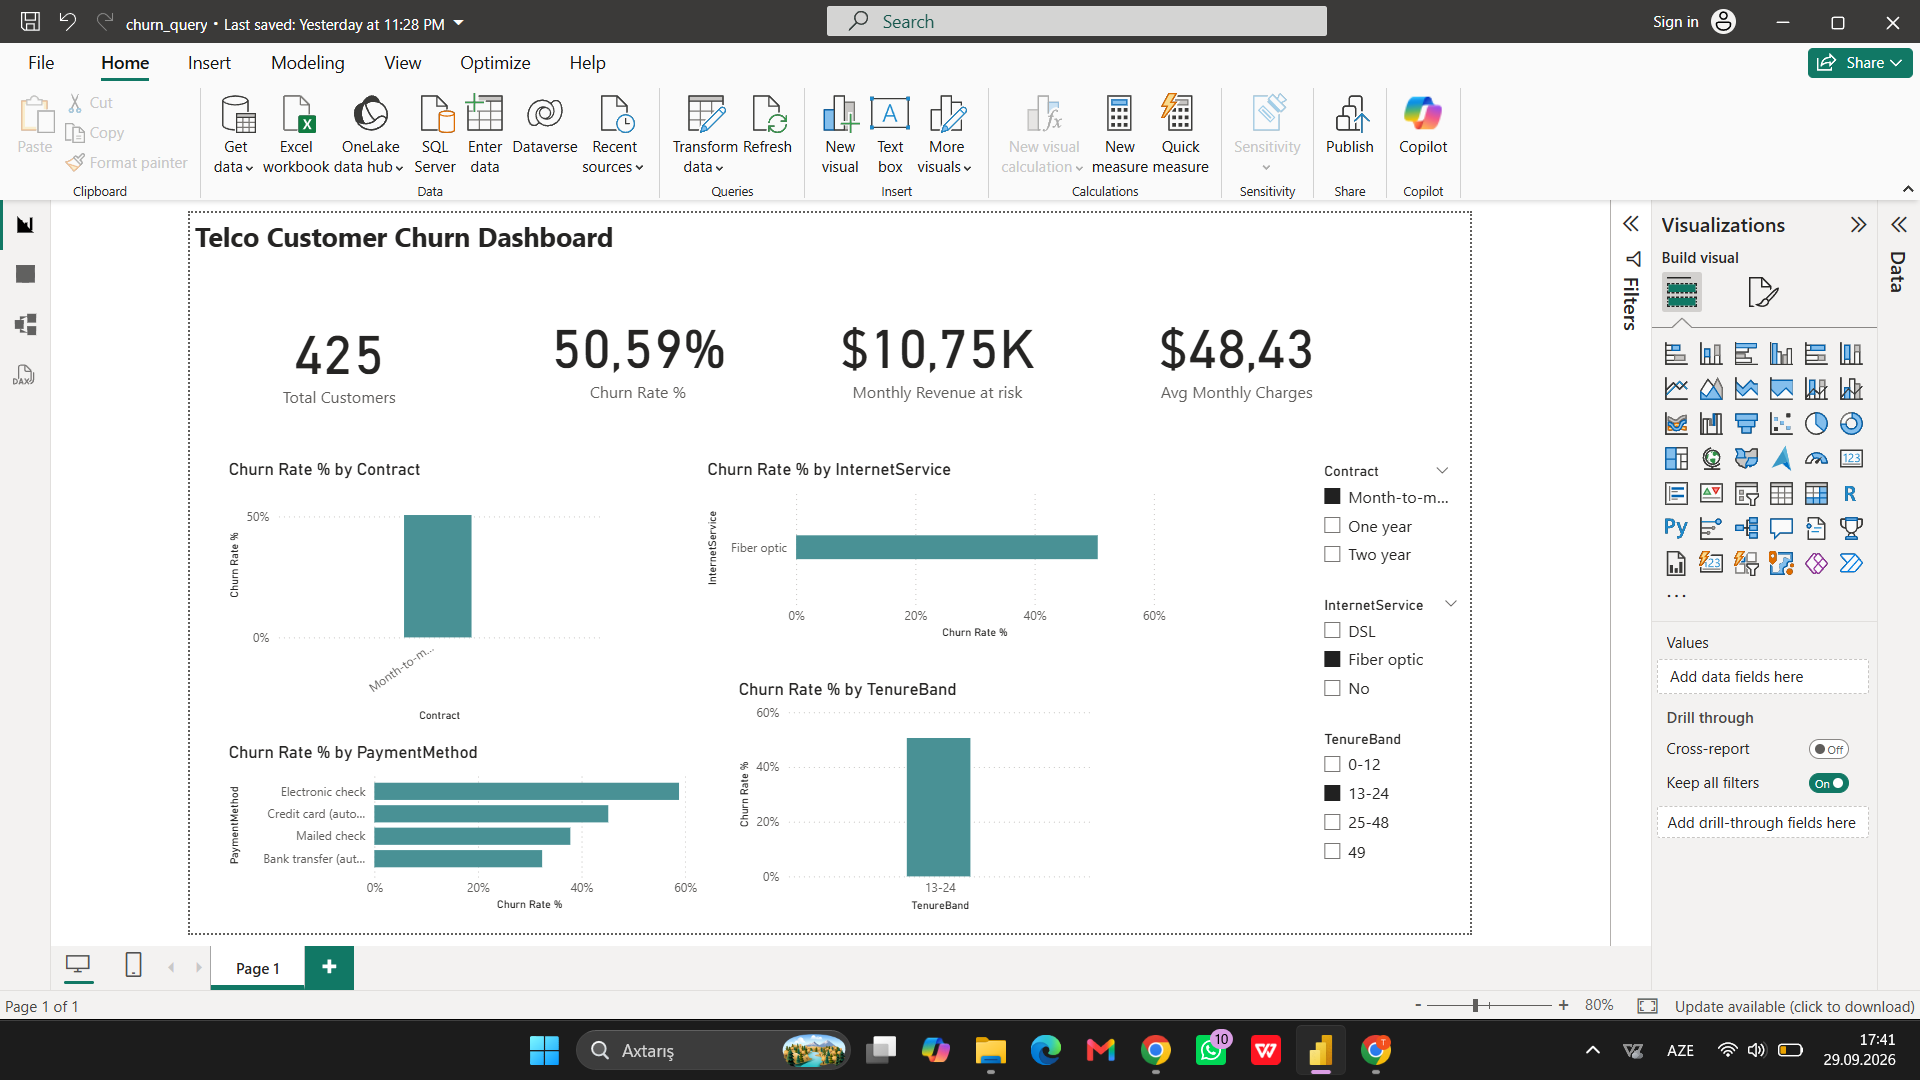

The dashboard page shown, as its layout file describes it:
{"tool":"powerbi","page":{"name":"Page 1","canvas":[1280,720],"ordinal":0},"visuals":[{"type":"card","fields":{"Values":["WA_Fn-UseC_-Telco-Customer-Churn.Total Customers"]},"box":[0,56.2,298.8,178.8],"z":0},{"type":"card","fields":{"Values":["WA_Fn-UseC_-Telco-Customer-Churn.Churn Rate %"]},"box":[298.8,45,298.8,190],"z":1000},{"type":"card","fields":{"Values":["WA_Fn-UseC_-Telco-Customer-Churn.Monthly Revenue at risk"]},"box":[597.5,45,300,190],"z":2000},{"type":"card","fields":{"Values":["WA_Fn-UseC_-Telco-Customer-Churn.Avg Monthly Charges"]},"box":[897.5,45,298.8,190],"z":3000},{"type":"clusteredColumnChart","fields":{"Category":["WA_Fn-UseC_-Telco-Customer-Churn.Contract"],"Y":["WA_Fn-UseC_-Telco-Customer-Churn.Churn Rate %"]},"box":[34.3,245.7,381.4,267.1],"z":4000},{"type":"clusteredBarChart","fields":{"Category":["WA_Fn-UseC_-Telco-Customer-Churn.InternetService"],"Y":["WA_Fn-UseC_-Telco-Customer-Churn.Churn Rate %"]},"box":[512.9,245.7,468.6,184.3],"z":5000},{"type":"clusteredColumnChart","fields":{"Category":["WA_Fn-UseC_-Telco-Customer-Churn.TenureBand"],"Y":["WA_Fn-UseC_-Telco-Customer-Churn.Churn Rate %"]},"box":[544.3,465.7,362.9,237.1],"z":6000},{"type":"clusteredBarChart","fields":{"Category":["WA_Fn-UseC_-Telco-Customer-Churn.PaymentMethod"],"Y":["WA_Fn-UseC_-Telco-Customer-Churn.Churn Rate %"]},"box":[34.3,528.6,478.6,174.3],"z":7000},{"type":"slicer","fields":{"Values":["WA_Fn-UseC_-Telco-Customer-Churn.Contract"]},"box":[1121.2,245,150,133.8],"z":8000},{"type":"slicer","fields":{"Values":["WA_Fn-UseC_-Telco-Customer-Churn.InternetService"]},"box":[1121.2,378.8,158.8,150],"z":9000},{"type":"slicer","fields":{"Values":["WA_Fn-UseC_-Telco-Customer-Churn.TenureBand"]},"box":[1121.2,512.5,158.8,150],"z":10000},{"type":"textbox","box":[0,0,458.8,72.5],"z":11000}]}

Visuals, with their boxes on the page's 1280x720 design canvas (x1, y1, x2, y2). These are canvas units, not pixel positions in the 1920x1080 screenshot, which may show the page scaled, cropped or inside an application window:
card - WA_Fn-UseC_-Telco-Customer-Churn.Total Customers: [0,56,299,235]
card - WA_Fn-UseC_-Telco-Customer-Churn.Churn Rate %: [299,45,598,235]
card - WA_Fn-UseC_-Telco-Customer-Churn.Monthly Revenue at risk: [598,45,898,235]
card - WA_Fn-UseC_-Telco-Customer-Churn.Avg Monthly Charges: [898,45,1196,235]
clusteredColumnChart - WA_Fn-UseC_-Telco-Customer-Churn.Contract x WA_Fn-UseC_-Telco-Customer-Churn.Churn Rate %: [34,246,416,513]
clusteredBarChart - WA_Fn-UseC_-Telco-Customer-Churn.InternetService x WA_Fn-UseC_-Telco-Customer-Churn.Churn Rate %: [513,246,982,430]
clusteredColumnChart - WA_Fn-UseC_-Telco-Customer-Churn.TenureBand x WA_Fn-UseC_-Telco-Customer-Churn.Churn Rate %: [544,466,907,703]
clusteredBarChart - WA_Fn-UseC_-Telco-Customer-Churn.PaymentMethod x WA_Fn-UseC_-Telco-Customer-Churn.Churn Rate %: [34,529,513,703]
slicer - WA_Fn-UseC_-Telco-Customer-Churn.Contract: [1121,245,1271,379]
slicer - WA_Fn-UseC_-Telco-Customer-Churn.InternetService: [1121,379,1280,529]
slicer - WA_Fn-UseC_-Telco-Customer-Churn.TenureBand: [1121,512,1280,662]
textbox: [0,0,459,72]
